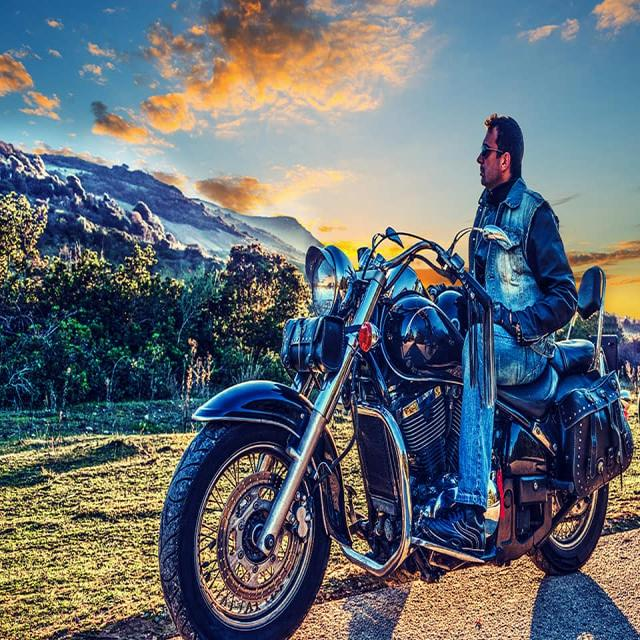Not Wearing Helmet: (442, 93, 532, 265)
